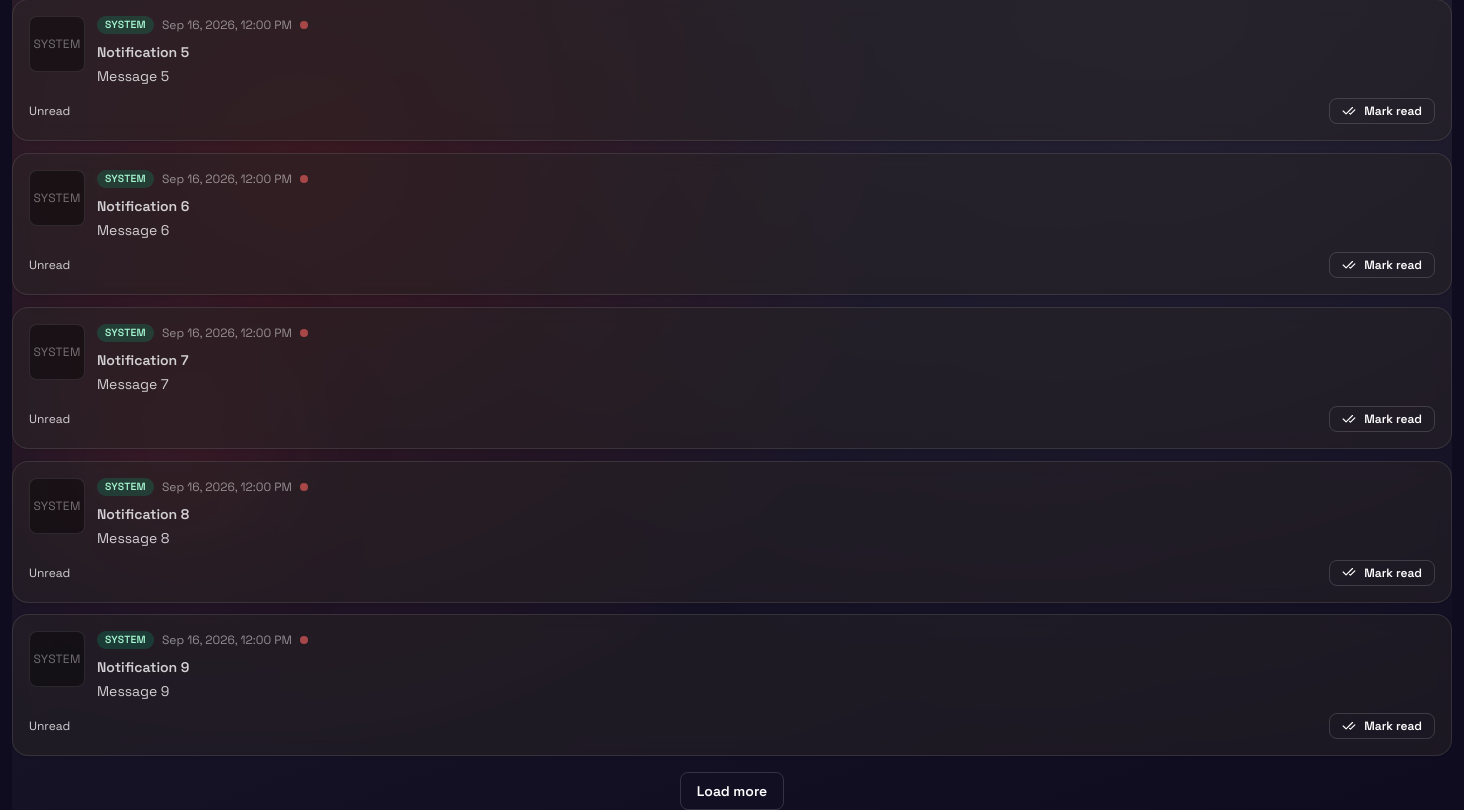
Test: notification menu and center › load more does not overwrite the unread count with a pagination hint
(page scrolled)
Click the button "Load more". click: (732, 791)
box: [680,772,784,809]
(page scrolled)
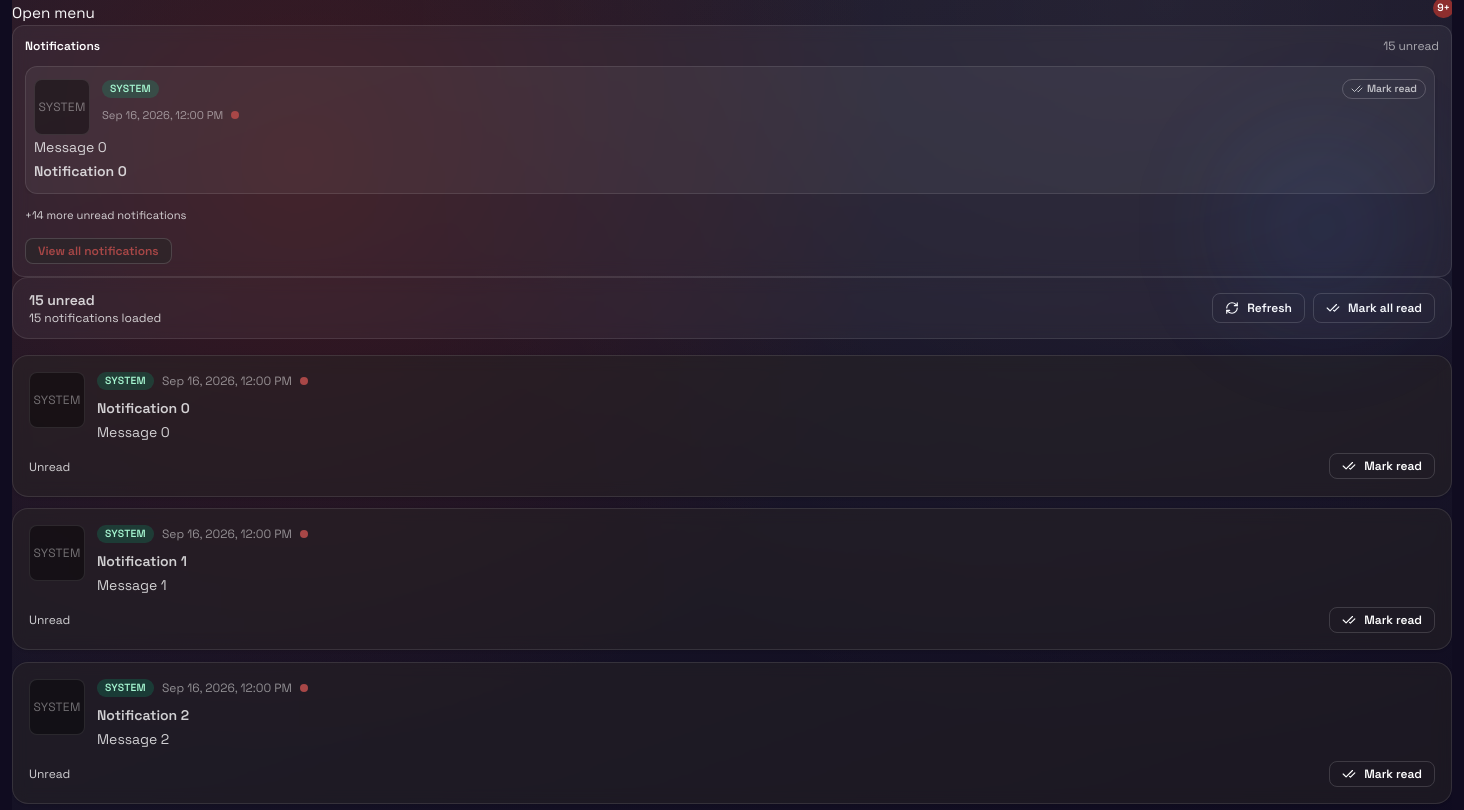
expect the text "15 unread" is shown: met, box [1383,38,1439,54]
expect the text "15 notifications loaded" is shown: met, box [29,310,161,326]
